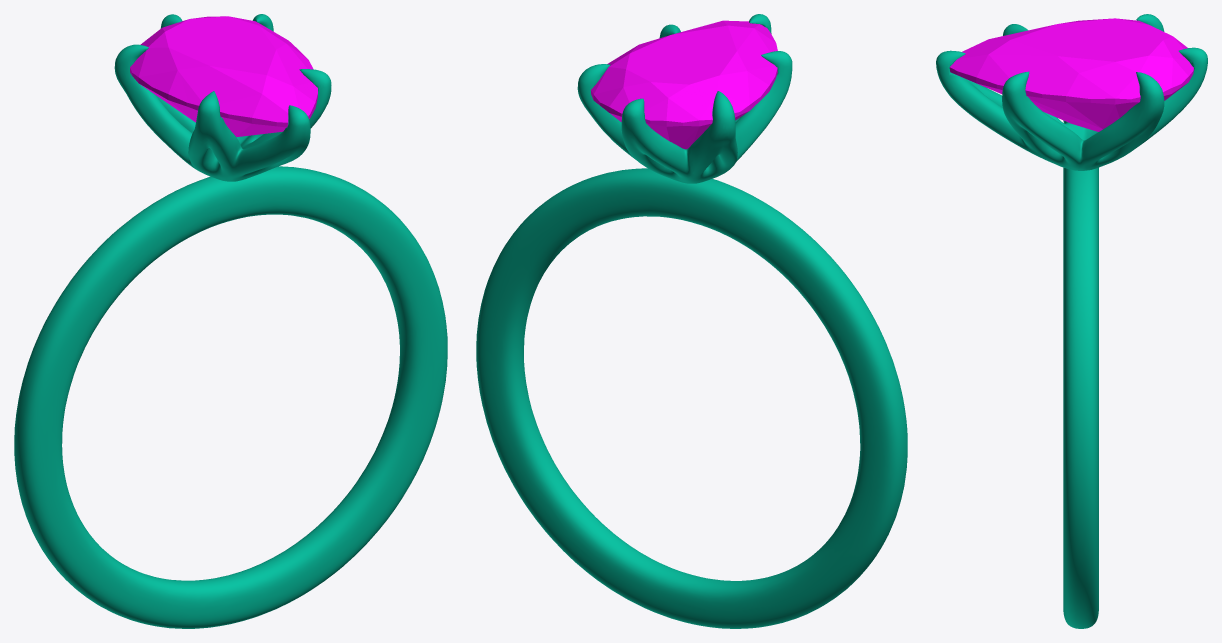
File: BE1902_PE_200ct_RENDER.glb
3 views of the same model, side by side, from view 1: azimuth 30°, elevation 25°; view 2: azimuth 150°, elevation 25°; view 3: azimuth 270°, elevation 25° (orthographic).
Visible parts, largest first — view 1: Metal 01, CS_Diamond_Pear; view 2: Metal 01, CS_Diamond_Pear; view 3: Metal 01, CS_Diamond_Pear.
Part boxes in pixels (x1,y1,x2,y2): Metal 01: (14,14,447,628); CS_Diamond_Pear: (130,16,317,137); Metal 01: (476,14,907,628); CS_Diamond_Pear: (591,20,777,149); Metal 01: (936,14,1207,628); CS_Diamond_Pear: (949,18,1193,131).
Size of the model in its own units: 20.5 by 26.22 by 11.42.
